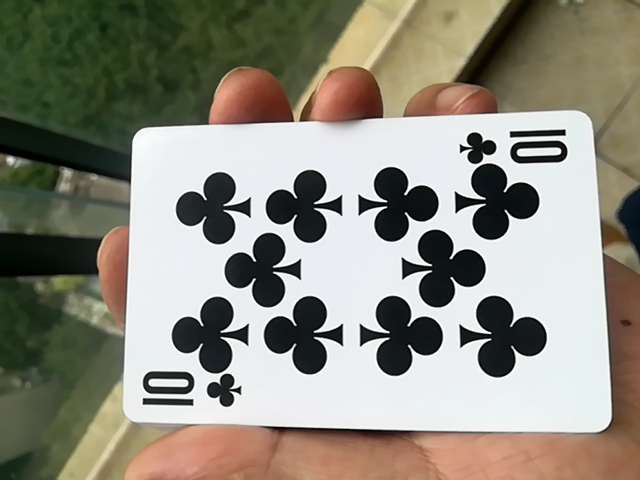mh 10: (114, 120, 610, 447)
